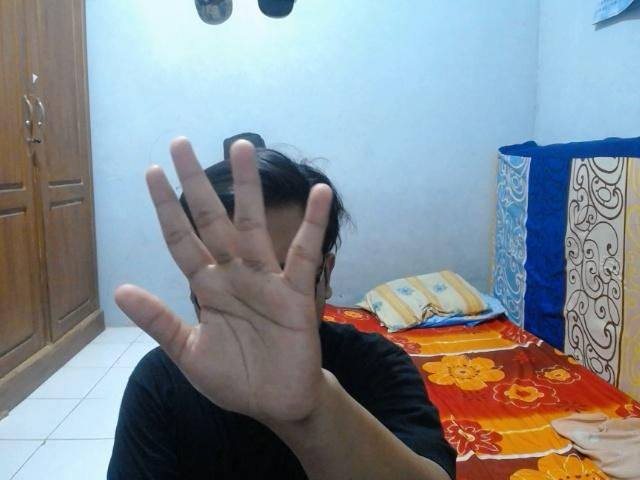Release: (102, 128, 341, 437)
